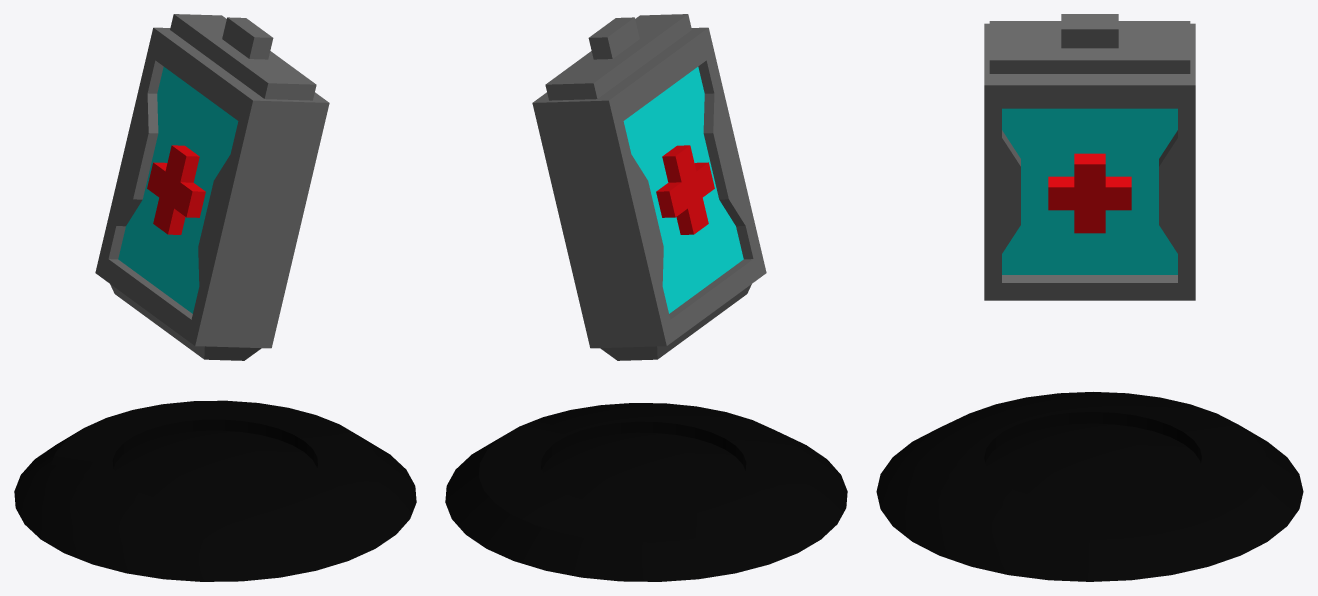
Rendered from Health pack1.fbx.
The picture shows the model from 3 angles, left to right: view 1: azimuth 30°, elevation 25°; view 2: azimuth 150°, elevation 25°; view 3: azimuth 270°, elevation 25°; orthographic projection. The views are drawn at different scales.
Parts seen in each view (by area): view 1: Cube.001, Circle; view 2: Cube.001, Circle; view 3: Circle, Cube.001.
Boxes of the visible parts, bbox=[...] form: Cube.001: bbox=[95, 14, 329, 360]; Circle: bbox=[14, 400, 416, 581]; Cube.001: bbox=[532, 14, 766, 360]; Circle: bbox=[445, 403, 847, 581]; Circle: bbox=[876, 392, 1303, 581]; Cube.001: bbox=[984, 14, 1195, 300].
Size of the model in its own units: 76.47 by 96.99 by 76.47.
